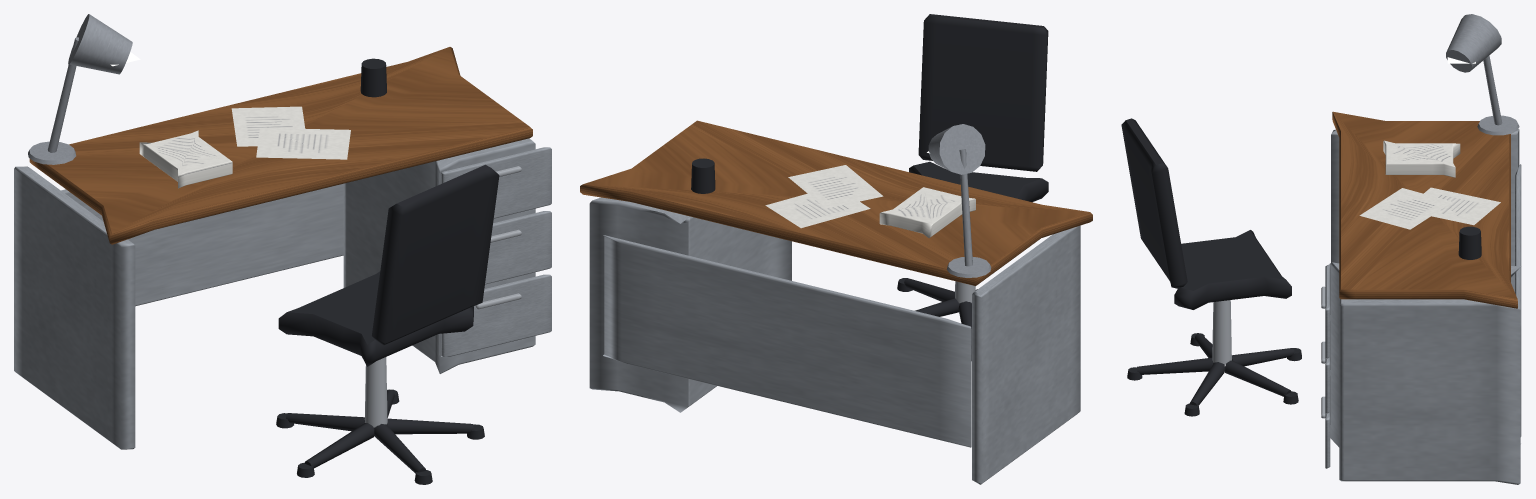
The model's file is desk_chair.glb.
The picture shows the model from 3 angles, left to right: view 1: azimuth 30°, elevation 25°; view 2: azimuth 150°, elevation 25°; view 3: azimuth 270°, elevation 25°; orthographic projection. The views are drawn at different scales.
Parts seen in each view (by area): view 1: Desk_Chair, Chair_Back_Node, Chair; view 2: Desk_Chair, Chair_Back_Node, Chair; view 3: Desk_Chair, Chair, Chair_Back_Node.
Part boxes in pixels (<box>): Desk_Chair: <box>14,14,551,449</box>; Chair_Back_Node: <box>372,164,499,345</box>; Chair: <box>276,271,484,484</box>; Desk_Chair: <box>580,120,1092,484</box>; Chair_Back_Node: <box>918,14,1048,171</box>; Chair: <box>897,161,1048,360</box>; Desk_Chair: <box>1321,14,1521,484</box>; Chair: <box>1127,230,1301,416</box>; Chair_Back_Node: <box>1121,118,1187,288</box>.
Bounding box in the file's own units: 1.59 × 1.22 × 1.42.
7 materials, 4 textured.
